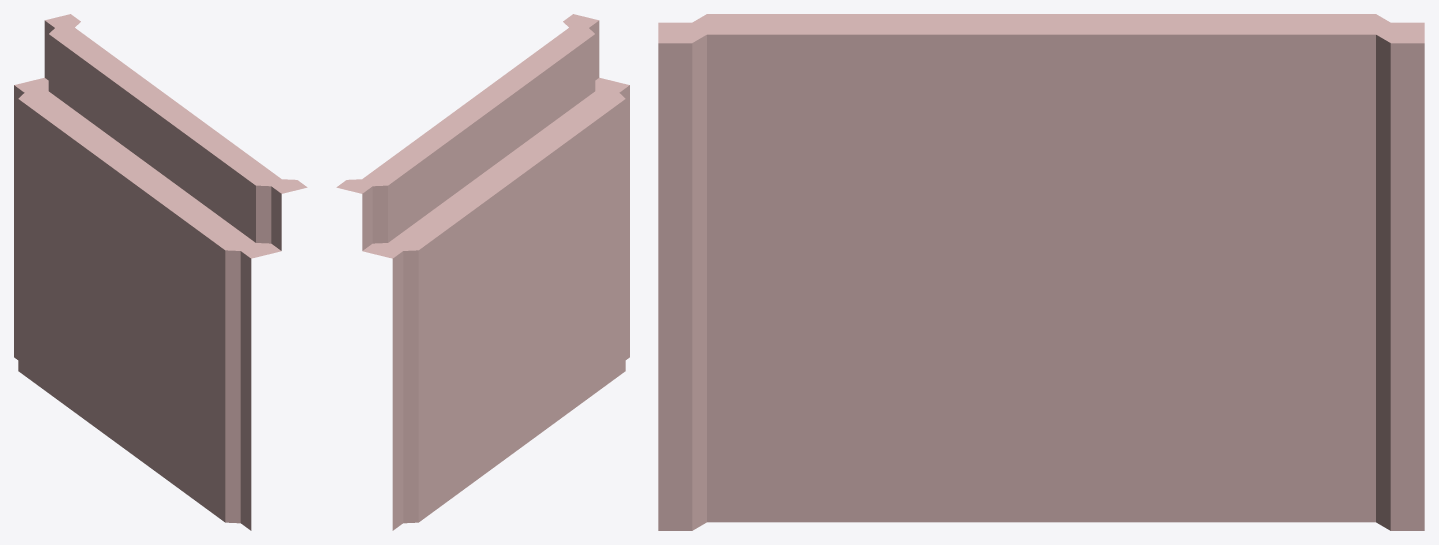
The model's file is Wall 01.fbx.
3 renders of one model, left to right at view 1: azimuth 30°, elevation 25°; view 2: azimuth 150°, elevation 25°; view 3: azimuth 270°, elevation 25°, orthographic. The views are drawn at different scales.
Parts seen in each view (by area): view 1: Wall 01; view 2: Wall 01; view 3: Wall 01.
Boxes of the visible parts, x1=… form: Wall 01: x1=14, y1=14, x2=307, y2=530; Wall 01: x1=336, y1=14, x2=629, y2=530; Wall 01: x1=658, y1=14, x2=1424, y2=530.
Size of the model in its own units: 0.8222 by 3.83 by 5.
